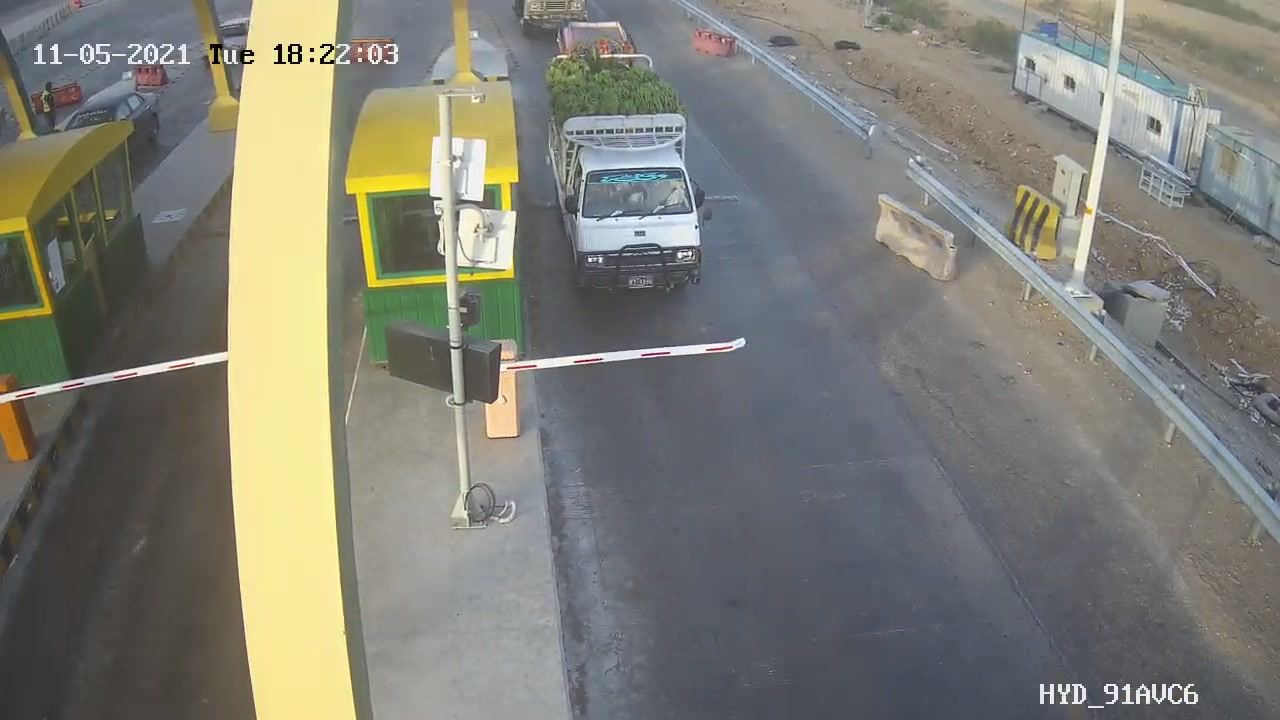F2: (529, 63, 725, 303)
